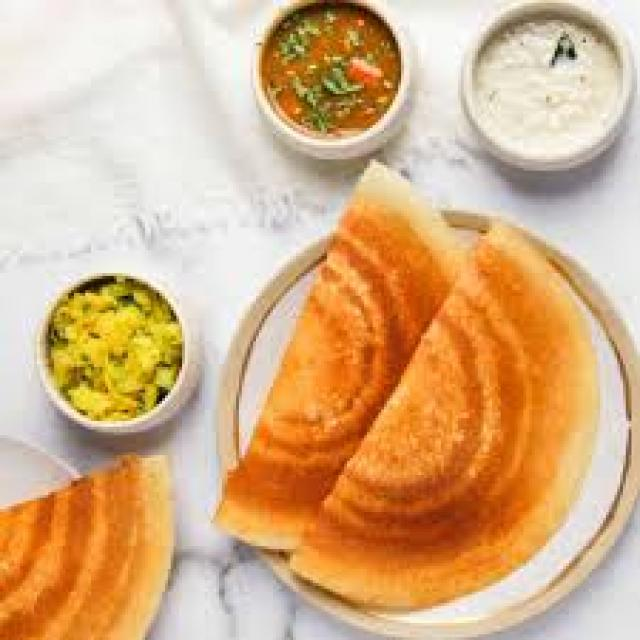DOSA: (293, 222, 600, 606), (0, 452, 171, 637)
